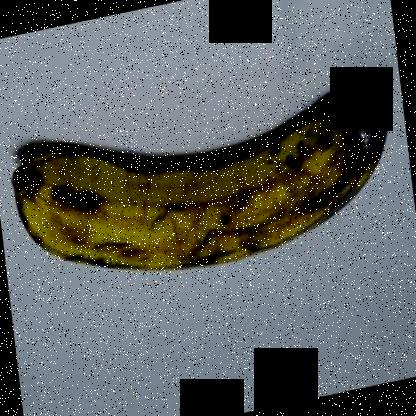overripe: (5, 68, 400, 285)
